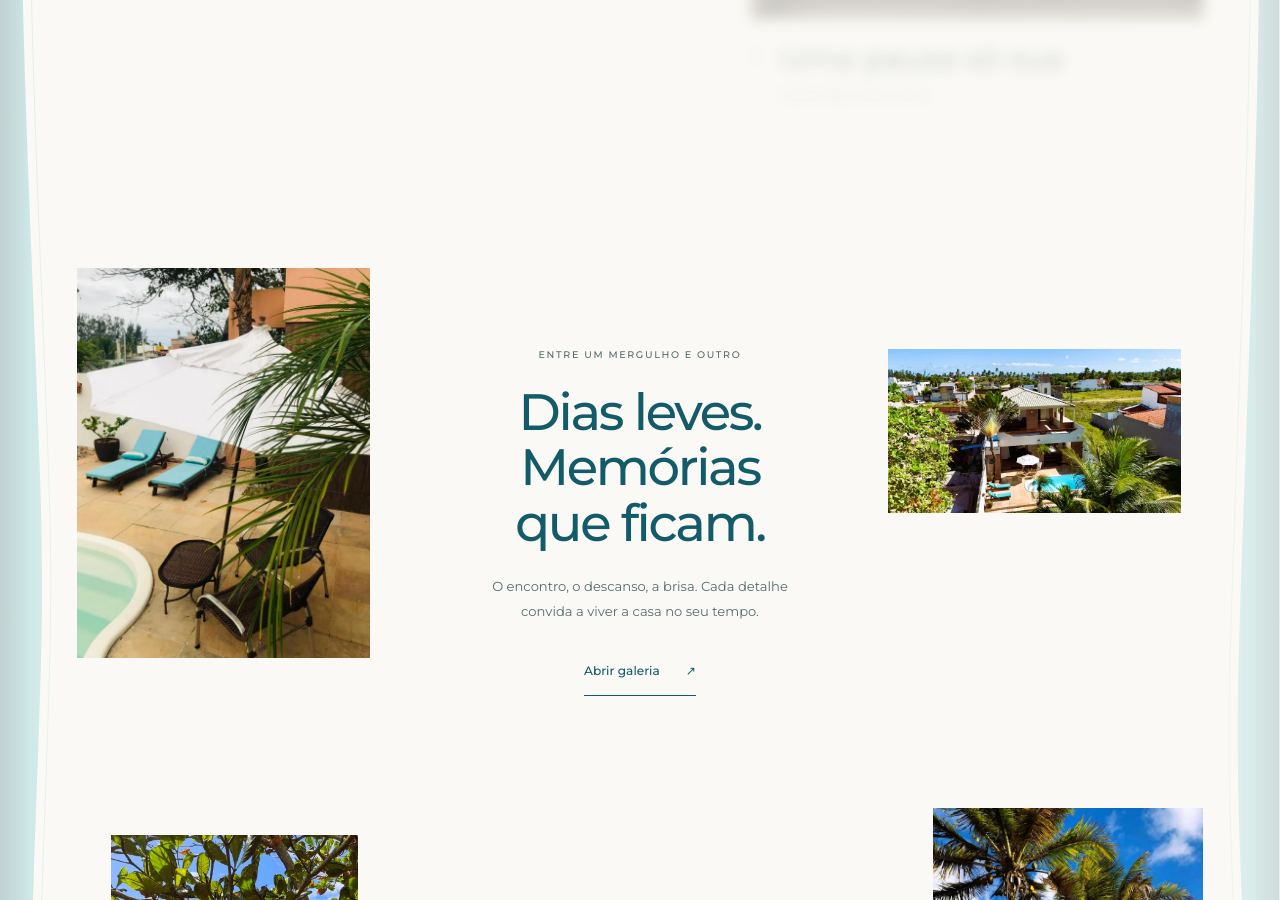
Scenario: experiência Casa Amar › abre a fotografia selecionada na composição editorial
(page scrolled)
Click the button named "Ver na galeria — Pátio e piscina" at (223, 463), box [77,268,370,658]
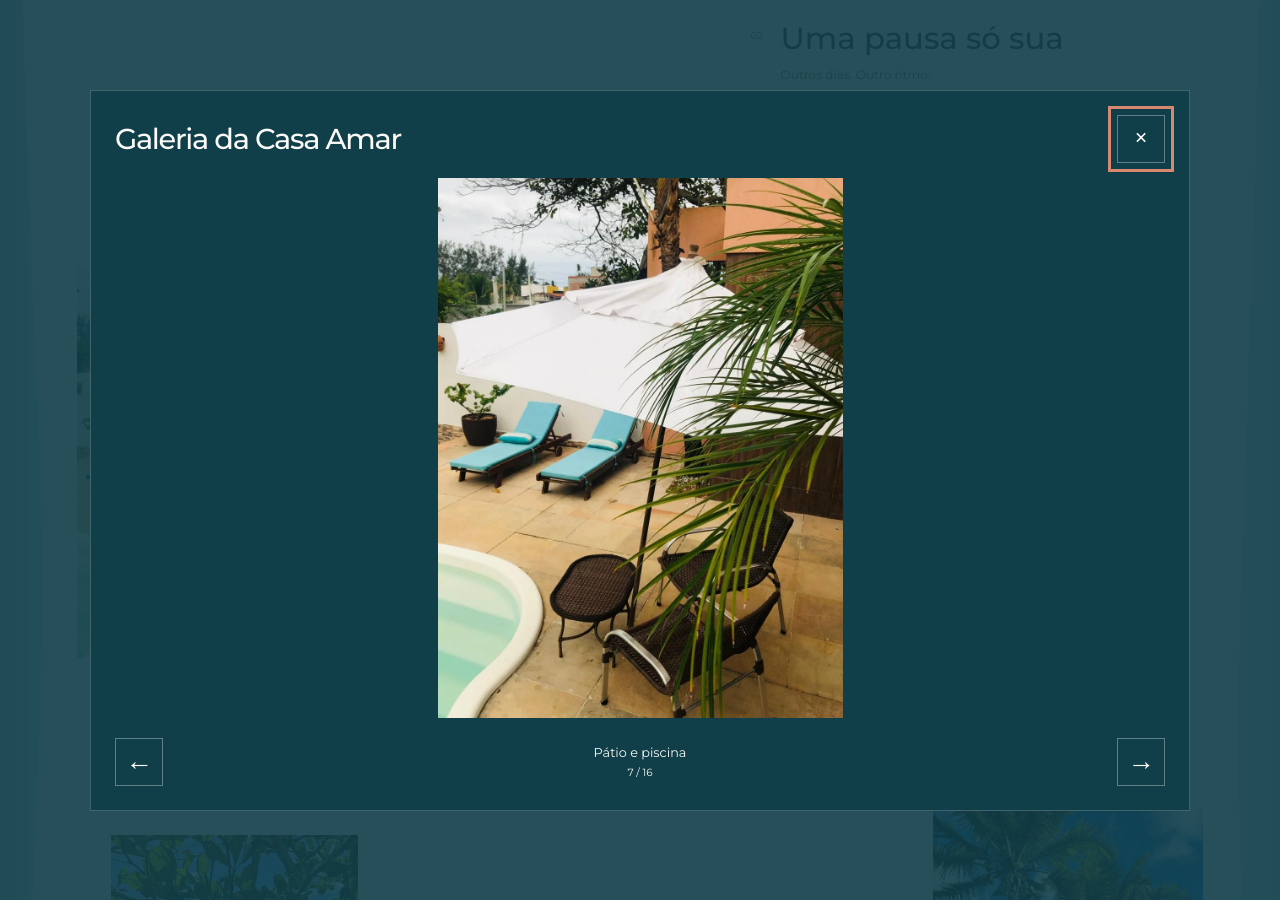
Result: the dialog "Galeria da Casa Amar" is shown
Result: the text "Pátio e piscina" is shown at [594,745,686,760]
Result: the text "7 / 16" is shown at [627,766,653,779]
